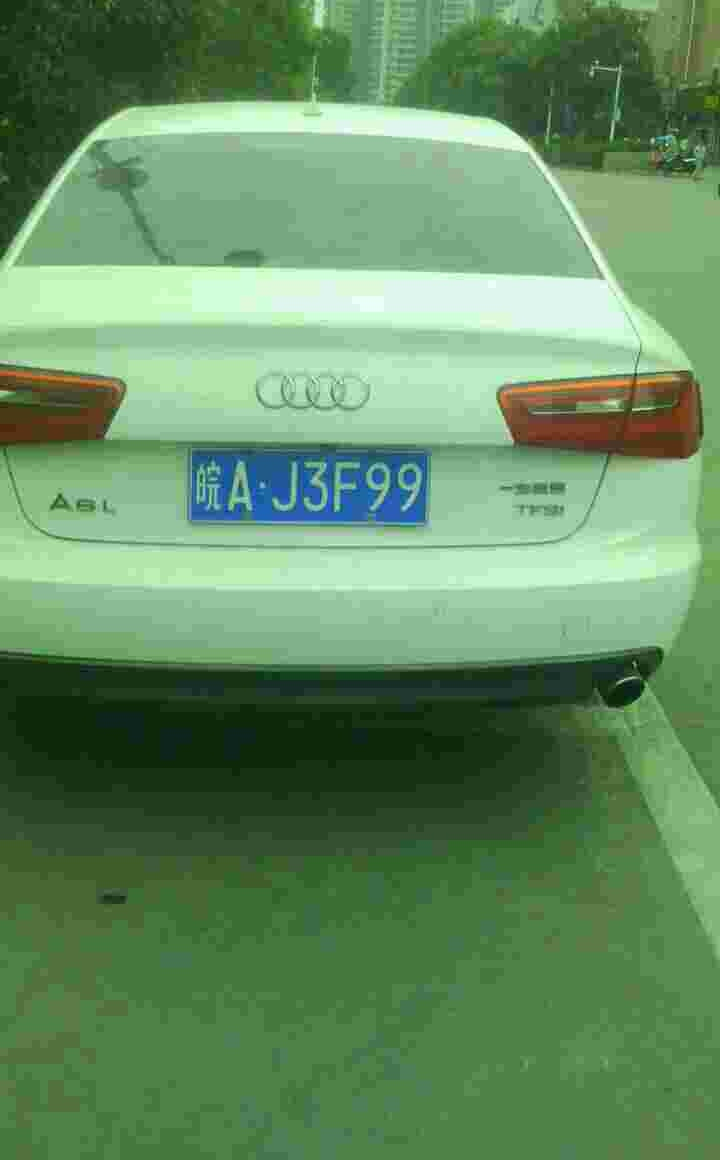license_plate: (189, 456, 435, 528)
